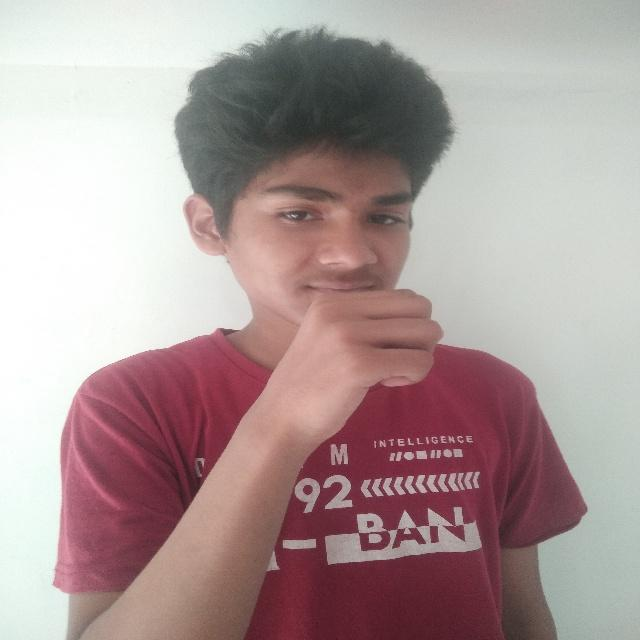Fist Mouth: (172, 63, 463, 415)
